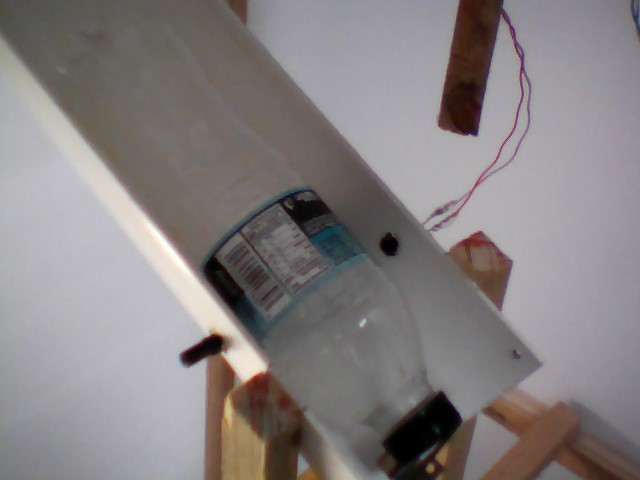plastico: (45, 4, 465, 468)
